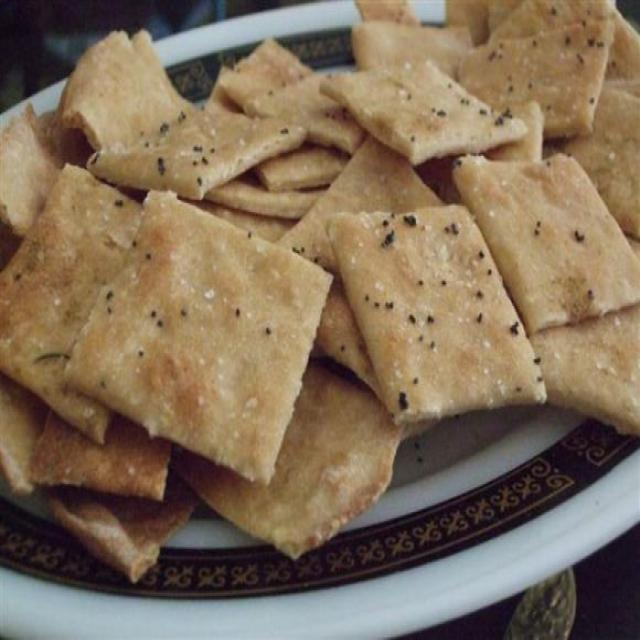Cracker: (71, 190, 318, 487), (324, 197, 560, 433), (328, 50, 536, 174)
